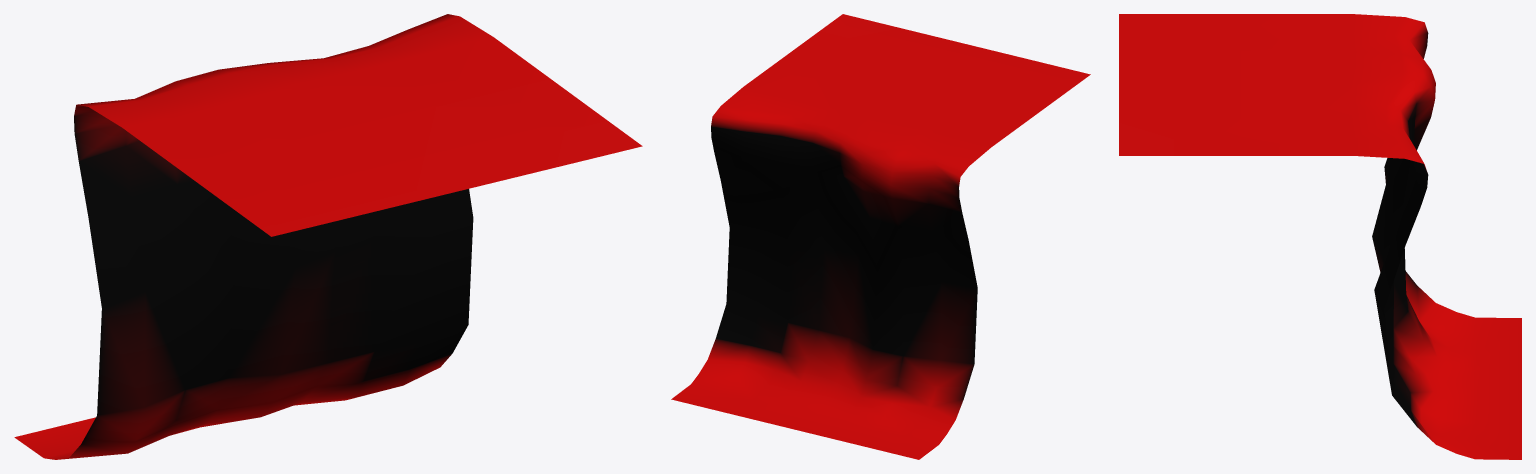
Rendered from GroundCliff00A 1M Background.fbx.
The picture shows the model from 3 angles, left to right: view 1: azimuth 30°, elevation 25°; view 2: azimuth 150°, elevation 25°; view 3: azimuth 270°, elevation 25°; orthographic projection. The views are drawn at different scales.
Visible parts, largest first — view 1: GroundCliff00A 1M Background; view 2: GroundCliff00A 1M Background; view 3: GroundCliff00A 1M Background.
Part boxes in pixels (box(x1,y1,x2,y2)): GroundCliff00A 1M Background: box(14, 14, 642, 459); GroundCliff00A 1M Background: box(671, 14, 1090, 459); GroundCliff00A 1M Background: box(1119, 14, 1521, 459).
Bounding box in the file's own units: 1 × 1 × 1.2.
